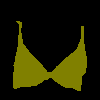reggiseno: (13, 20, 87, 91)
